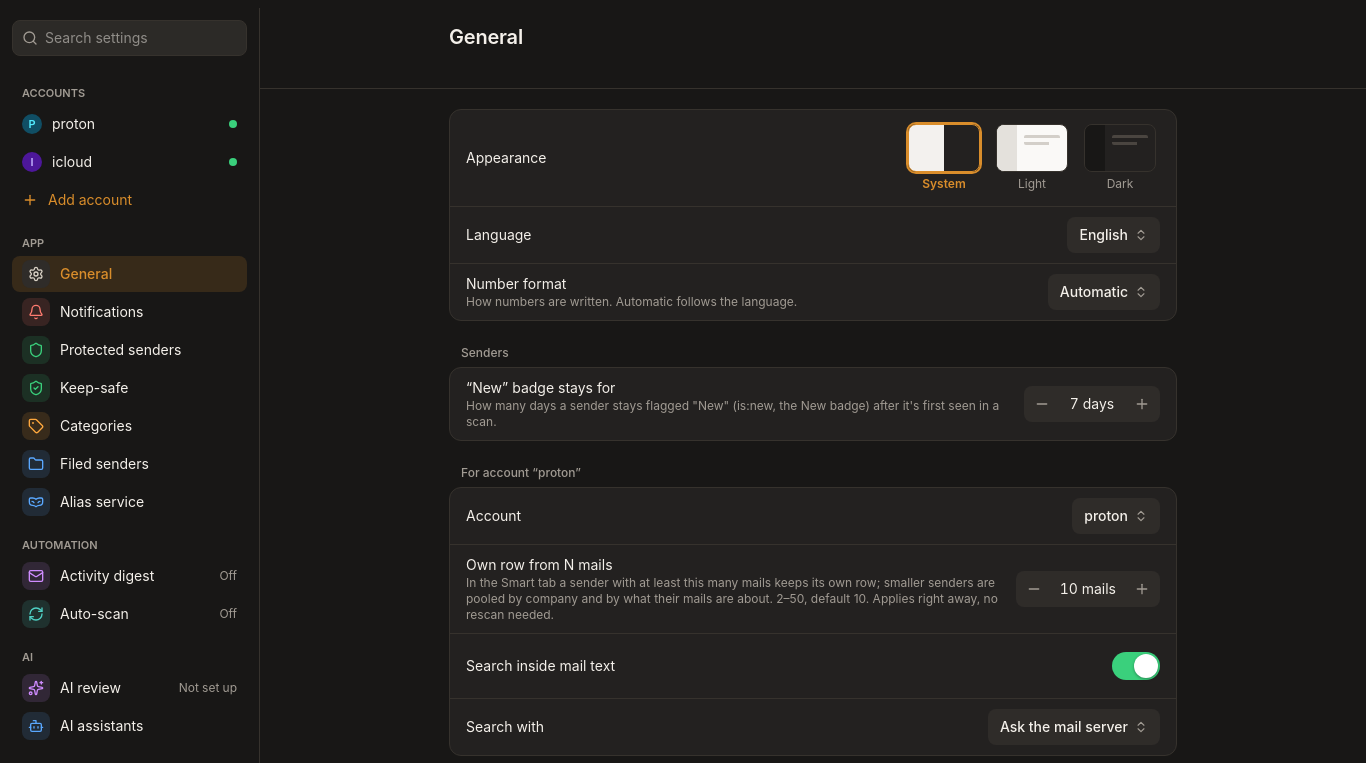
Test: no tokens: no badge; the search finds the section by its row labels
Expected: the button "AI assistants" is shown, [12,708,247,744]
In the search field labelled "Search settings": x=130, y=38 [12,20,247,56], type "Revoke all"
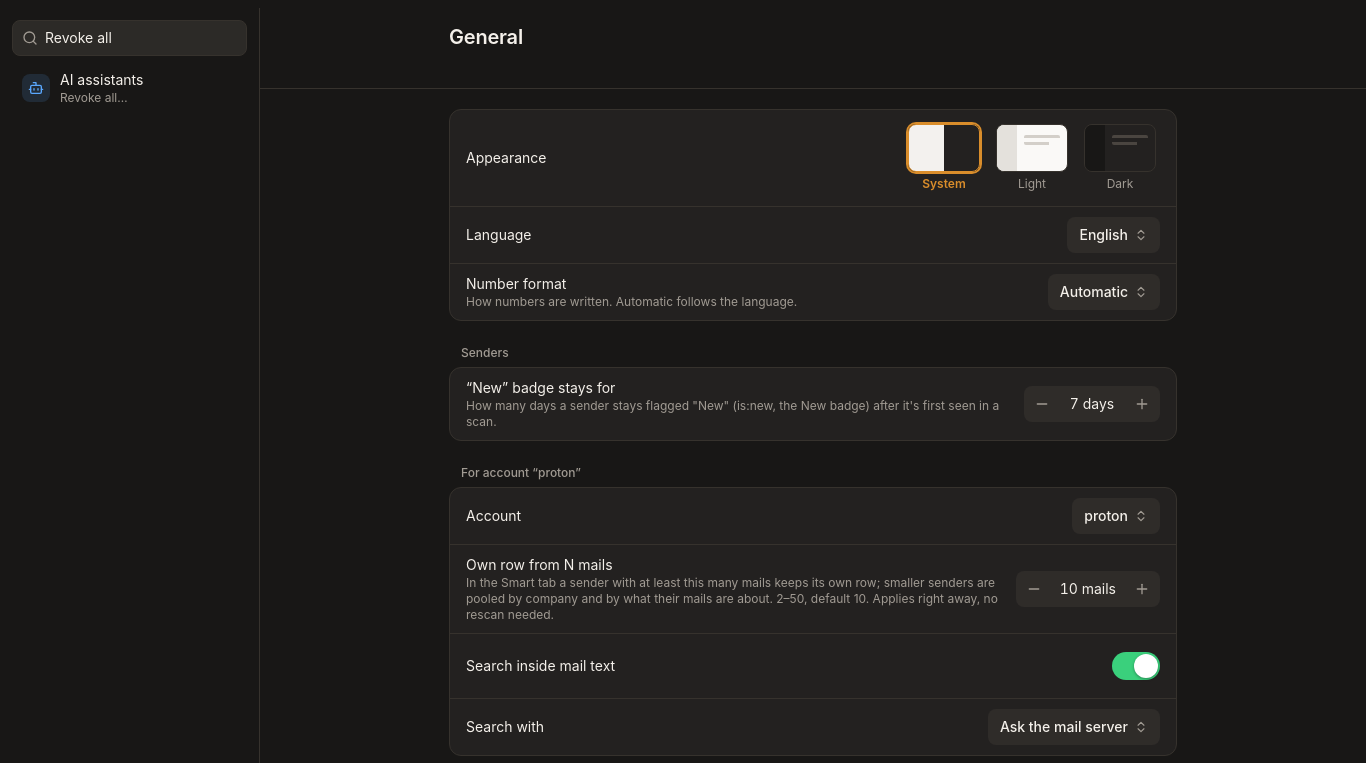
Now the button "AI assistants Revoke all…" is shown, box [12,70,247,106]
